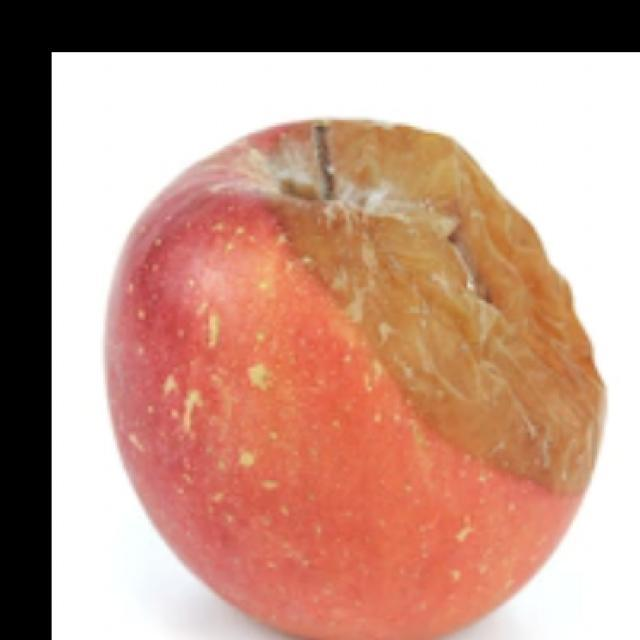Rotten: (165, 125, 592, 640)
